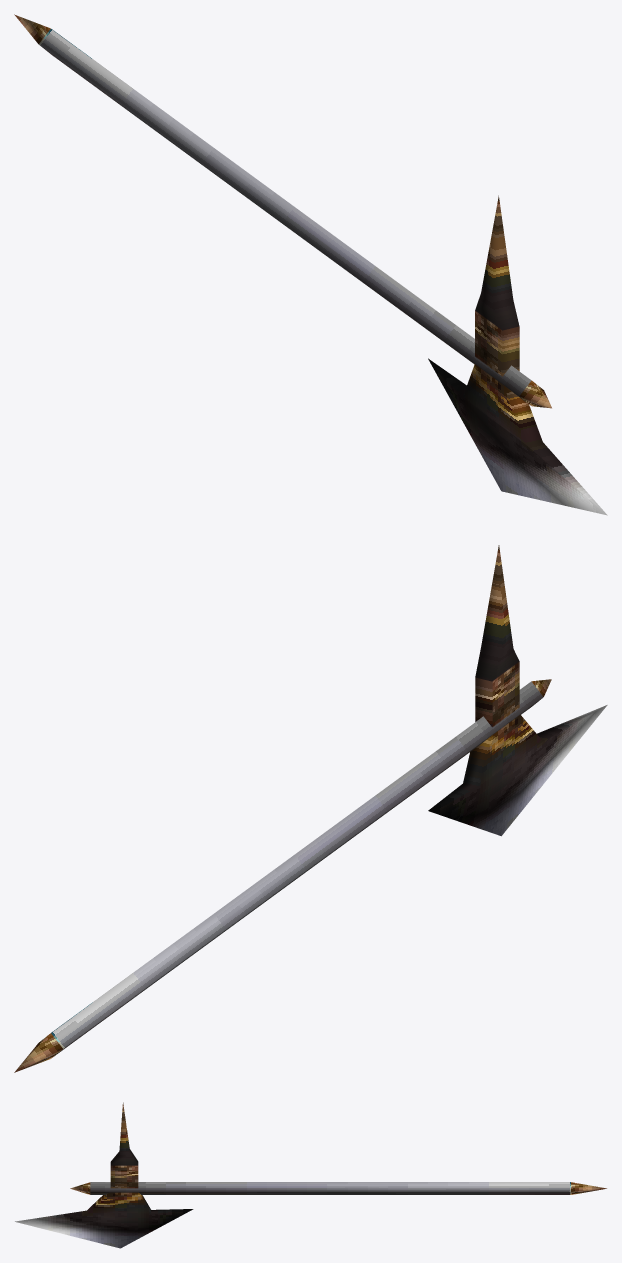
Rendered from furenmao.FBX.
3 renders of one model, top to bottom at view 1: azimuth 30°, elevation 25°; view 2: azimuth 150°, elevation 25°; view 3: azimuth 270°, elevation 25°, orthographic. The views are drawn at different scales.
Parts seen in each view (by area): view 1: furenmao; view 2: furenmao; view 3: furenmao.
Part boxes in pixels (x1=…): furenmao: x1=14, y1=14, x2=607, y2=515; furenmao: x1=14, y1=545, x2=607, y2=1072; furenmao: x1=15, y1=1102, x2=606, y2=1248.
Bounding box in the file's own units: 13.23 × 150 × 549.
